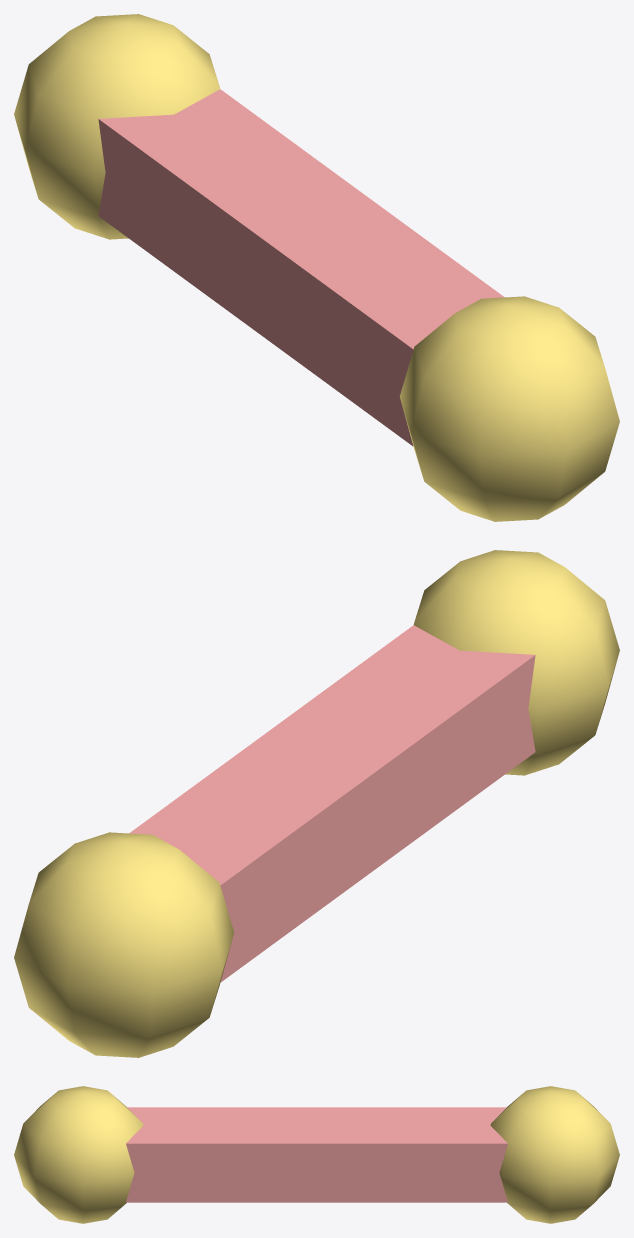
File: hazard_sweeper.glb
3 renders of one model, top to bottom at view 1: azimuth 30°, elevation 25°; view 2: azimuth 150°, elevation 25°; view 3: azimuth 270°, elevation 25°, orthographic. The views are drawn at different scales.
Parts seen in each view (by area): view 1: SweeperBar, SweeperCap; view 2: SweeperBar, SweeperCap; view 3: SweeperBar, SweeperCap.
Boxes of the visible parts, x1,y1,x2,y2 form: SweeperBar: [98, 89, 504, 446]; SweeperCap: [14, 14, 619, 521]; SweeperBar: [129, 625, 535, 982]; SweeperCap: [14, 550, 619, 1057]; SweeperBar: [126, 1107, 507, 1202]; SweeperCap: [14, 1086, 619, 1223].
Size of the model in its own units: 0.68 by 0.68 by 2.98.
